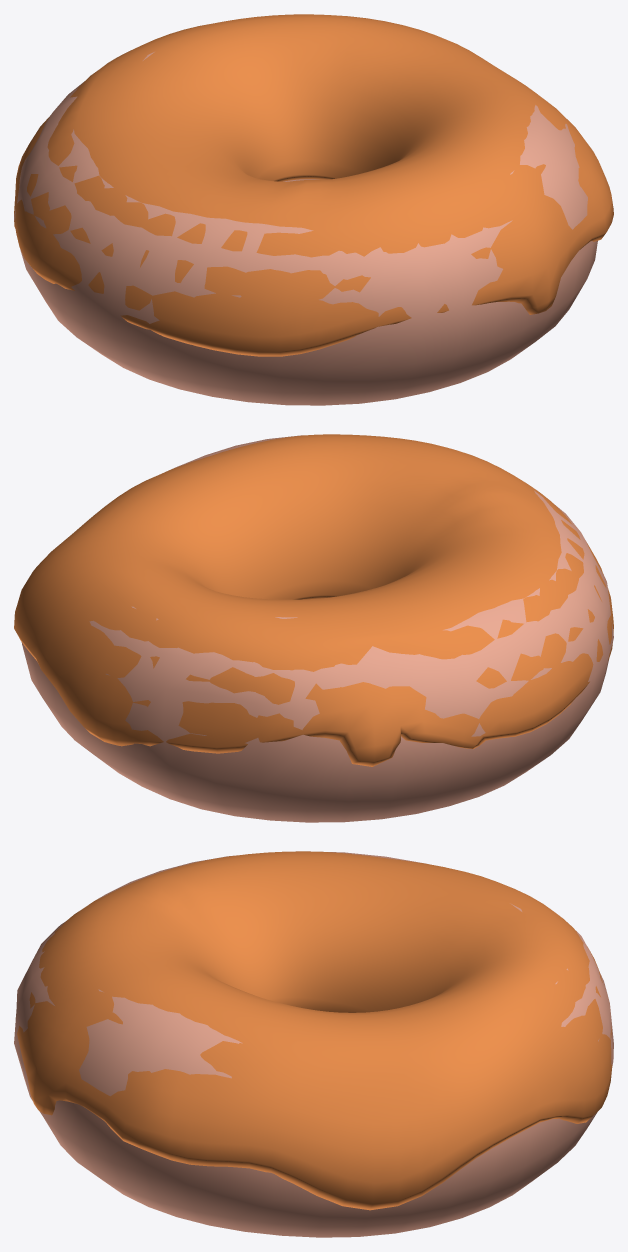
Rendered from donut.gltf.
3 views of the same model, one above another, from view 1: azimuth 30°, elevation 25°; view 2: azimuth 150°, elevation 25°; view 3: azimuth 270°, elevation 25° (orthographic). The views are drawn at different scales.
Parts seen in each view (by area): view 1: Icing, Donut; view 2: Icing, Donut; view 3: Icing, Donut.
Boxes of the visible parts, box(x1,y1,x2,y2) form: Icing: box(14, 14, 613, 356); Donut: box(14, 52, 597, 405); Icing: box(14, 434, 613, 766); Donut: box(21, 435, 613, 822); Icing: box(15, 851, 612, 1210); Donut: box(14, 851, 613, 1237).
Size of what is drawn, in the model's own units: 0.1021 by 0.0403 by 0.1004.
